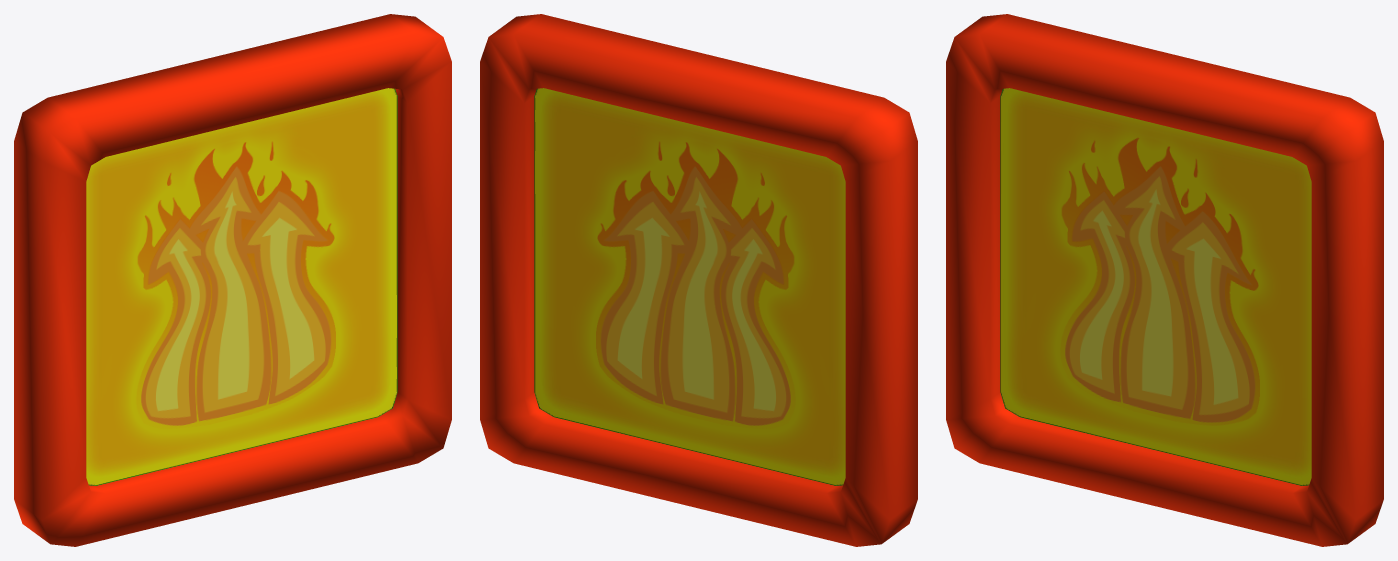
Rendered from OrangePowerUp.FBX.
The picture shows the model from 3 angles, left to right: view 1: azimuth 30°, elevation 25°; view 2: azimuth 150°, elevation 25°; view 3: azimuth 330°, elevation 25°; orthographic projection.
Parts seen in each view (by area): view 1: HeatRises; view 2: HeatRises; view 3: HeatRises.
Part boxes in pixels (box(x1,y1,x2,y2)): HeatRises: box(14, 14, 451, 546); HeatRises: box(480, 14, 917, 546); HeatRises: box(946, 14, 1383, 546).
Size of the model in its own units: 8.62 by 8.62 by 1.02.
